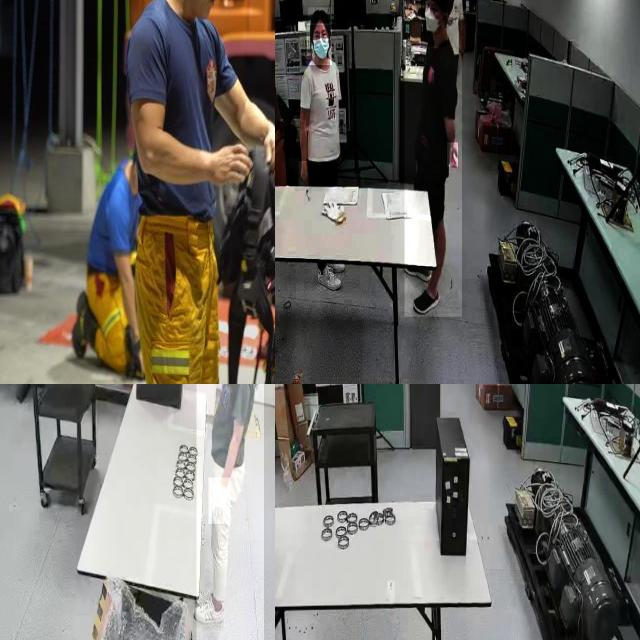face_mask: (420, 0, 447, 47), (306, 23, 332, 66)
hand_glove: (209, 478, 231, 524)
hand_noglove: (298, 161, 310, 187), (447, 142, 459, 168)
head_nohelmet: (308, 7, 332, 26)
person: (404, 0, 462, 317), (196, 384, 264, 640), (294, 6, 348, 192)
shoes: (192, 600, 228, 627), (316, 261, 341, 290)
